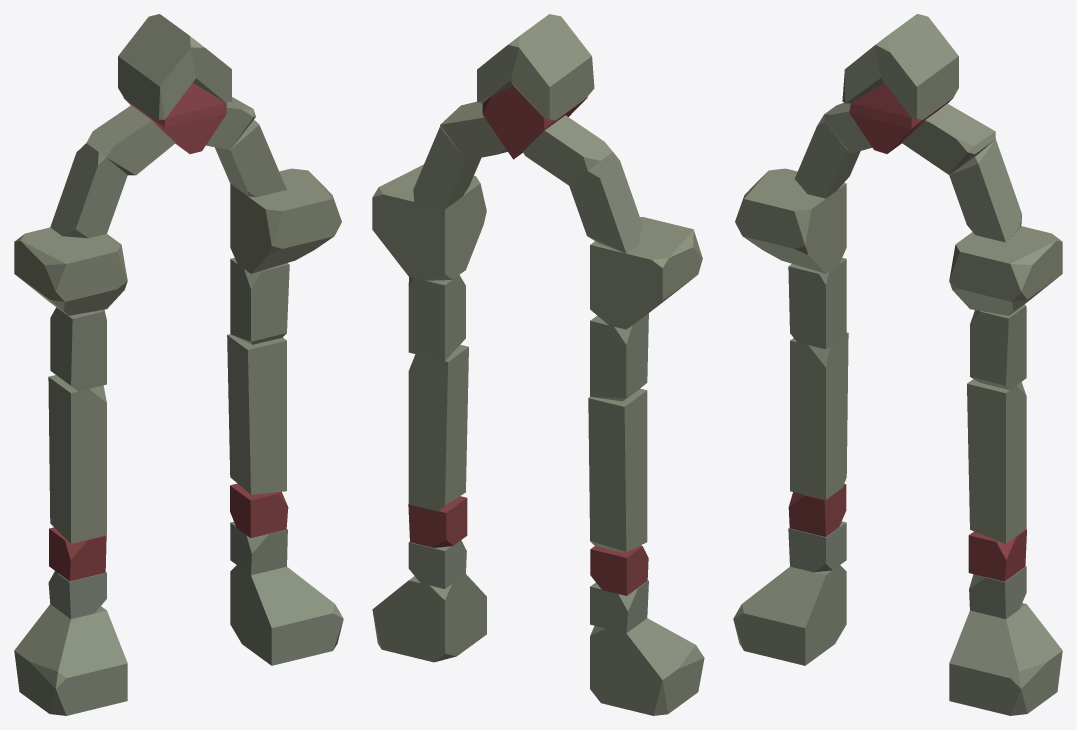
The model's file is door_arch_single_tall.fbx.
The picture shows the model from 3 angles, left to right: view 1: azimuth 30°, elevation 25°; view 2: azimuth 150°, elevation 25°; view 3: azimuth 330°, elevation 25°; orthographic projection.
Parts seen in each view (by area): view 1: door_arch_single_tall; view 2: door_arch_single_tall; view 3: door_arch_single_tall.
Boxes of the visible parts, x1,y1,x2,y2 form: door_arch_single_tall: [14, 14, 343, 715]; door_arch_single_tall: [372, 14, 704, 715]; door_arch_single_tall: [733, 14, 1062, 715].
Size of the model in its own units: 200 by 425 by 57.91.
